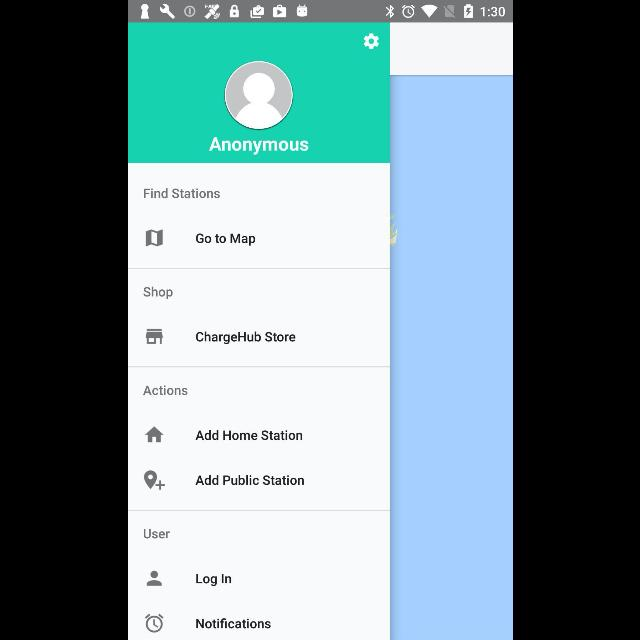icon: (224, 61, 292, 130), (143, 470, 165, 490), (144, 614, 164, 632), (144, 426, 162, 444), (145, 229, 163, 247), (362, 34, 378, 50), (146, 570, 162, 586)
image: (145, 329, 163, 345)
panel: (128, 23, 388, 639)
text: (208, 137, 308, 155), (194, 474, 304, 486), (195, 332, 295, 344), (195, 430, 302, 440), (142, 188, 220, 200), (194, 234, 256, 246), (196, 618, 270, 628), (142, 386, 188, 396), (195, 574, 231, 586), (143, 286, 173, 300), (142, 529, 170, 539)
uppertaskbar: (128, 1, 512, 23)
